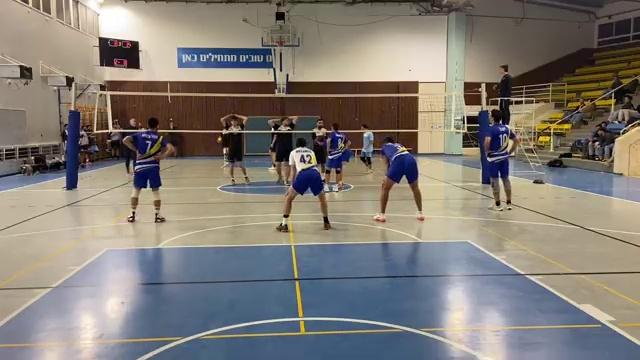ball: (215, 136, 227, 145)
